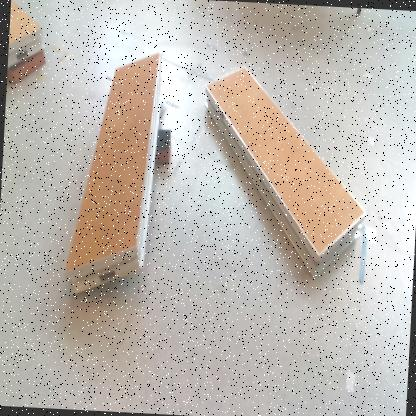Stairs: (204, 66, 366, 281), (63, 50, 165, 304), (8, 1, 45, 73)
